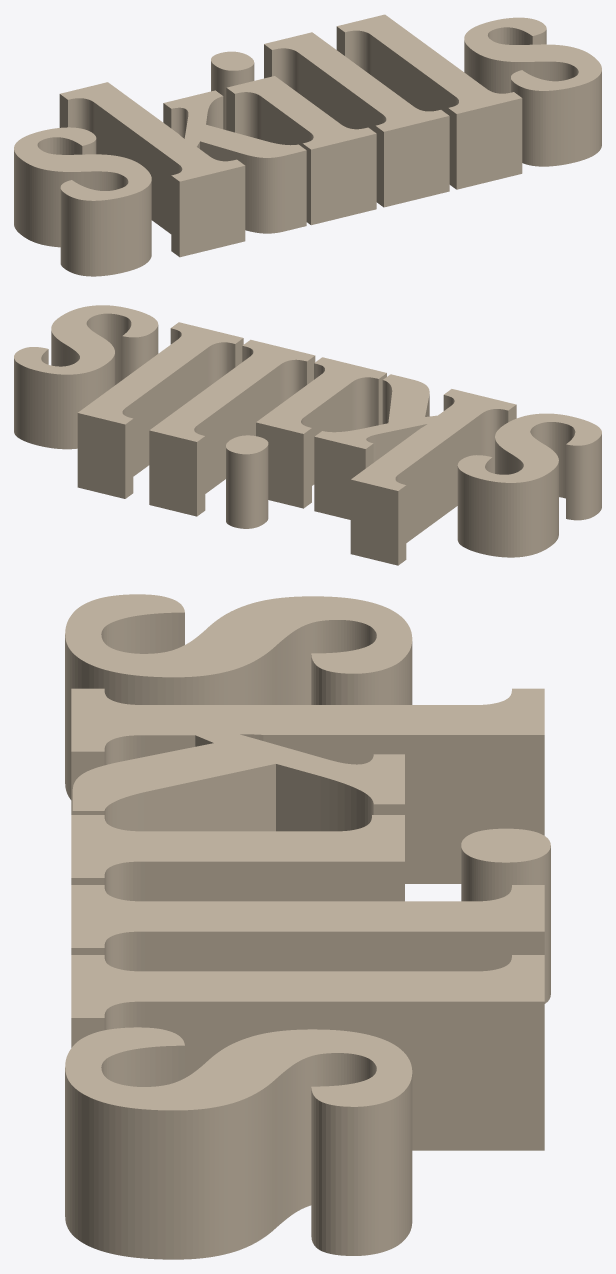
Rendered from skillstext.glb.
The picture shows the model from 3 angles, top to bottom: view 1: azimuth 30°, elevation 25°; view 2: azimuth 150°, elevation 25°; view 3: azimuth 270°, elevation 25°; orthographic projection. The views are drawn at different scales.
Visible parts, largest first — view 1: Mesh_Mesh_head_geo.001_lambert2SG.001; view 2: Mesh_Mesh_head_geo.001_lambert2SG.001; view 3: Mesh_Mesh_head_geo.001_lambert2SG.001.
Part boxes in pixels (x1,y1,x2,y2): Mesh_Mesh_head_geo.001_lambert2SG.001: [14, 14, 601, 276]; Mesh_Mesh_head_geo.001_lambert2SG.001: [14, 305, 601, 565]; Mesh_Mesh_head_geo.001_lambert2SG.001: [65, 594, 550, 1259].
Size of the model in its own units: 74.19 by 10 by 29.51.
